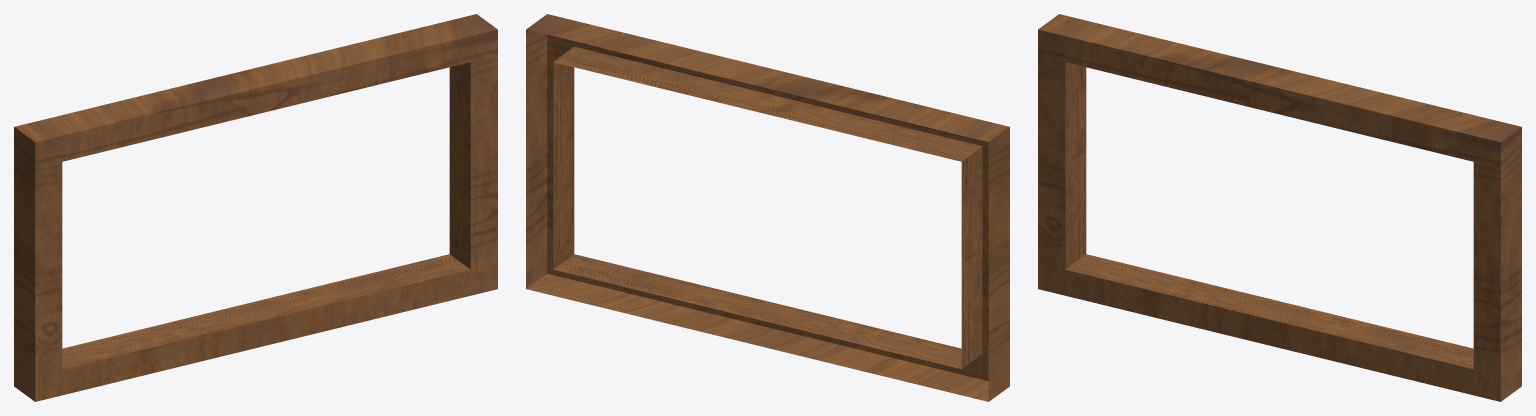
The model's file is Frame.glb.
3 views of the same model, side by side, from view 1: azimuth 30°, elevation 25°; view 2: azimuth 150°, elevation 25°; view 3: azimuth 330°, elevation 25° (orthographic).
Visible parts, largest first — view 1: Frame; view 2: Frame; view 3: Frame.
Part boxes in pixels (x1,y1,x2,y2): Frame: (14, 14, 497, 401); Frame: (526, 14, 1009, 401); Frame: (1038, 14, 1521, 401).
Bounding box in the file's own units: 4.18 × 2.24 × 0.3312.
Materials: 1 (1 with a texture image).
